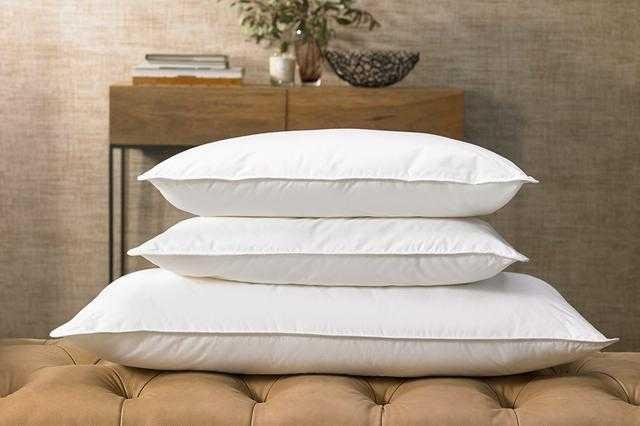pillow: (48, 267, 620, 378), (135, 126, 539, 218), (126, 215, 530, 287)
